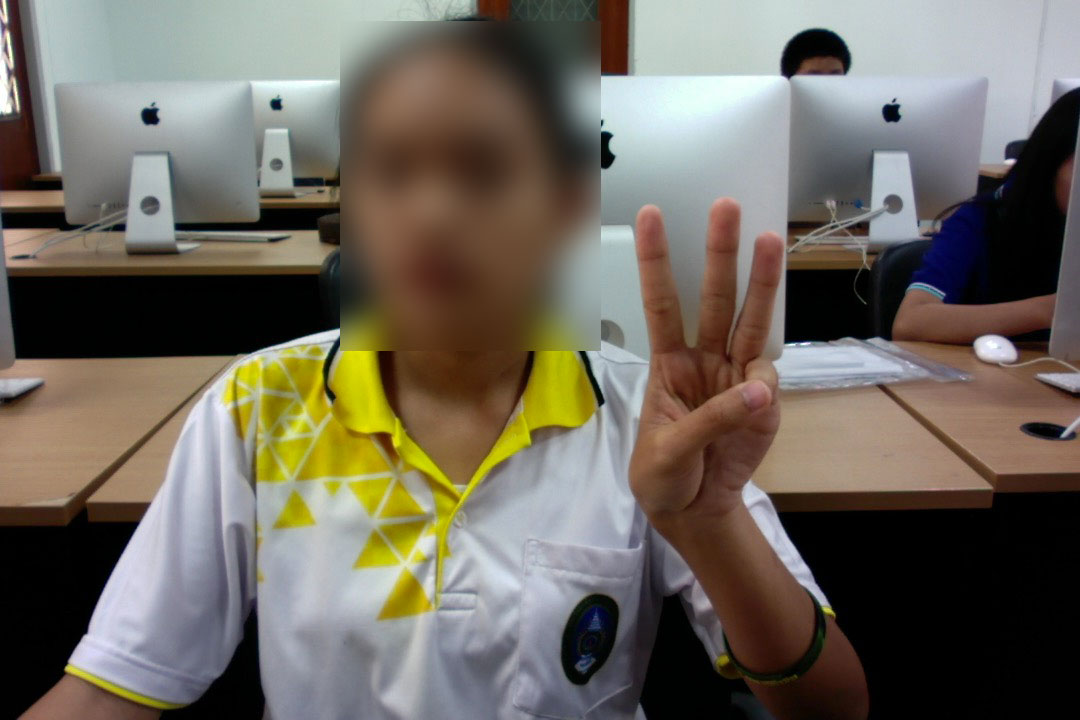wor: (600, 190, 807, 538)
